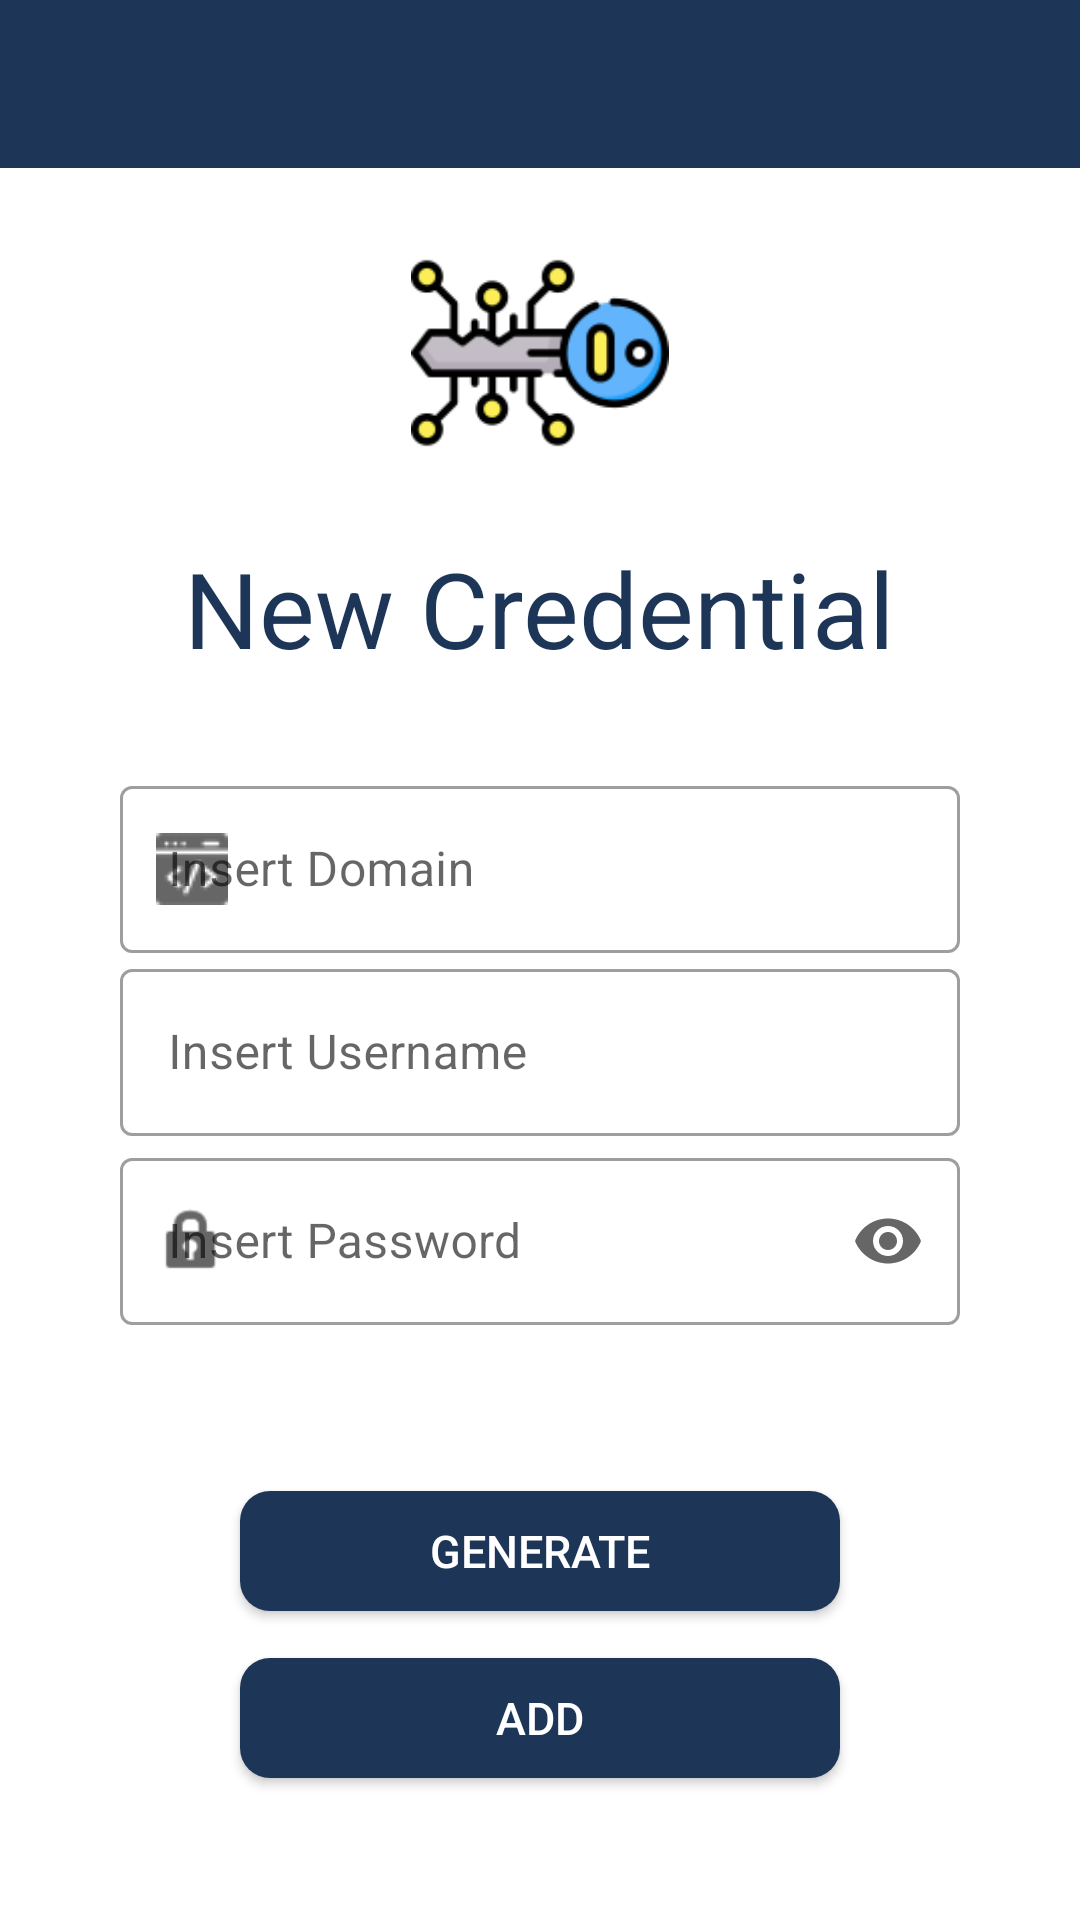

Icons on this 1080 × 1920 Android screen, each with the point to tap as (x,y):
digital key: (540,353)
